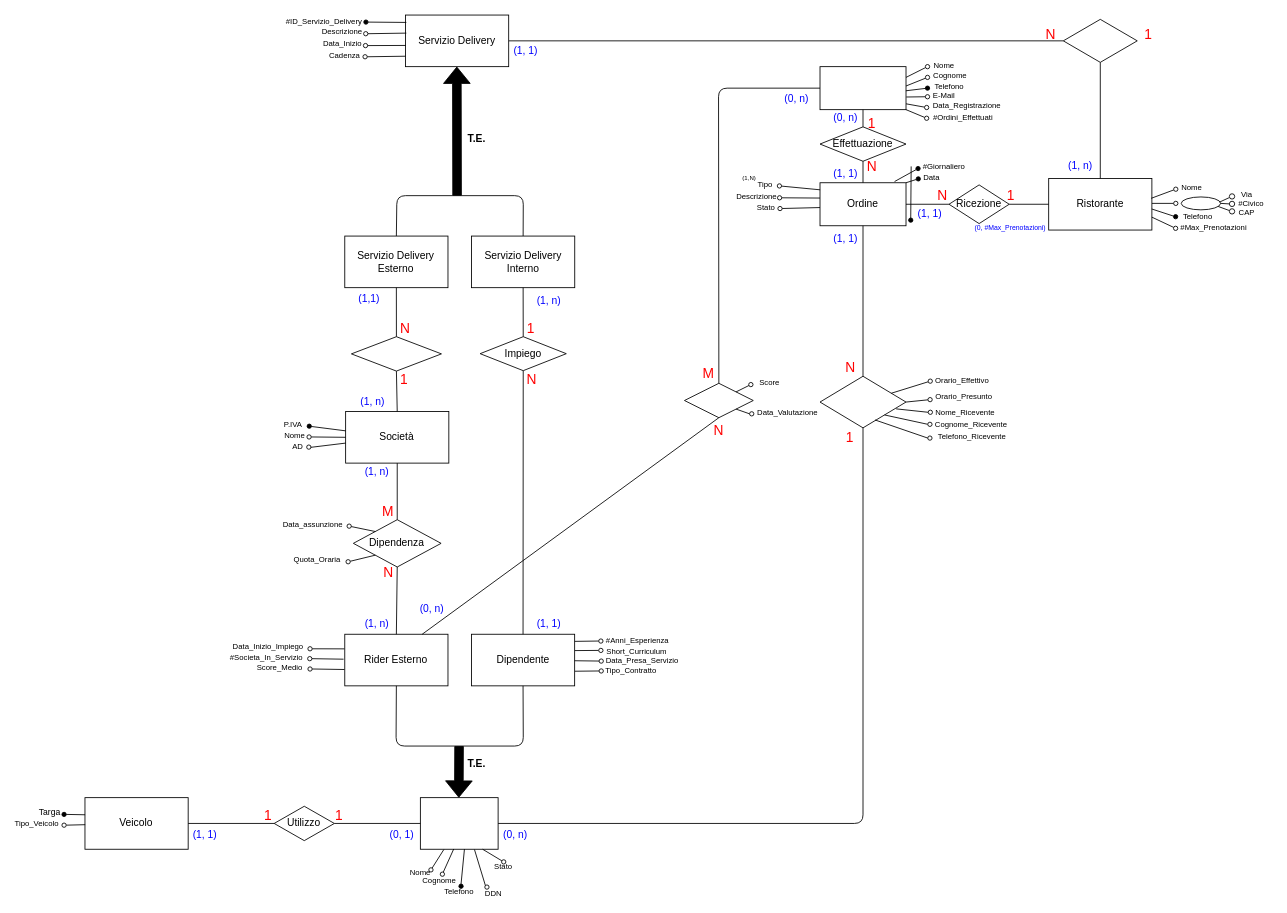
Image size: 1287x913. Some labels were removed from this diagram. Each missing label, with the centre of its shape:
Affidamento: (396,353)
Cliente: (862,88)
Consegna: (862,401)
Indirizzo: (1200,203)
Possesso: (1099,40)
Rider: (459,823)
Valutazione: (718,400)
